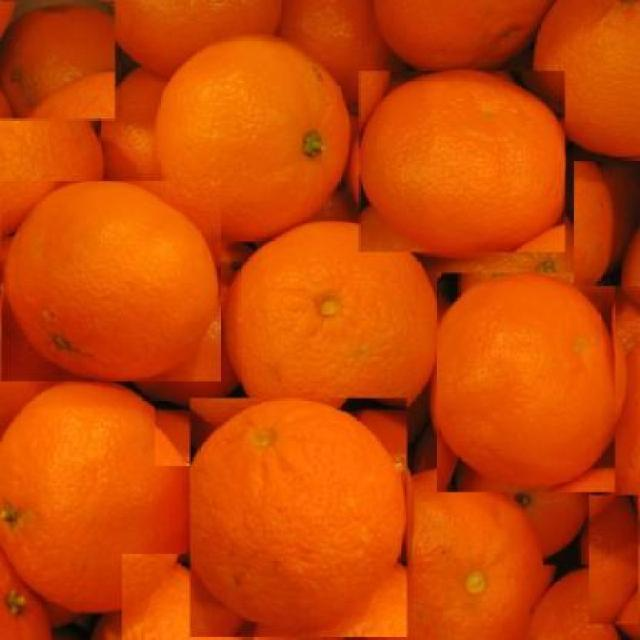Orange: (190, 398, 407, 638), (0, 380, 191, 620), (1, 180, 221, 382), (219, 221, 441, 405), (437, 273, 616, 492), (158, 36, 347, 243), (360, 71, 566, 252), (358, 472, 526, 640), (525, 0, 639, 158), (0, 0, 115, 119), (98, 0, 266, 80), (373, 0, 532, 58)
